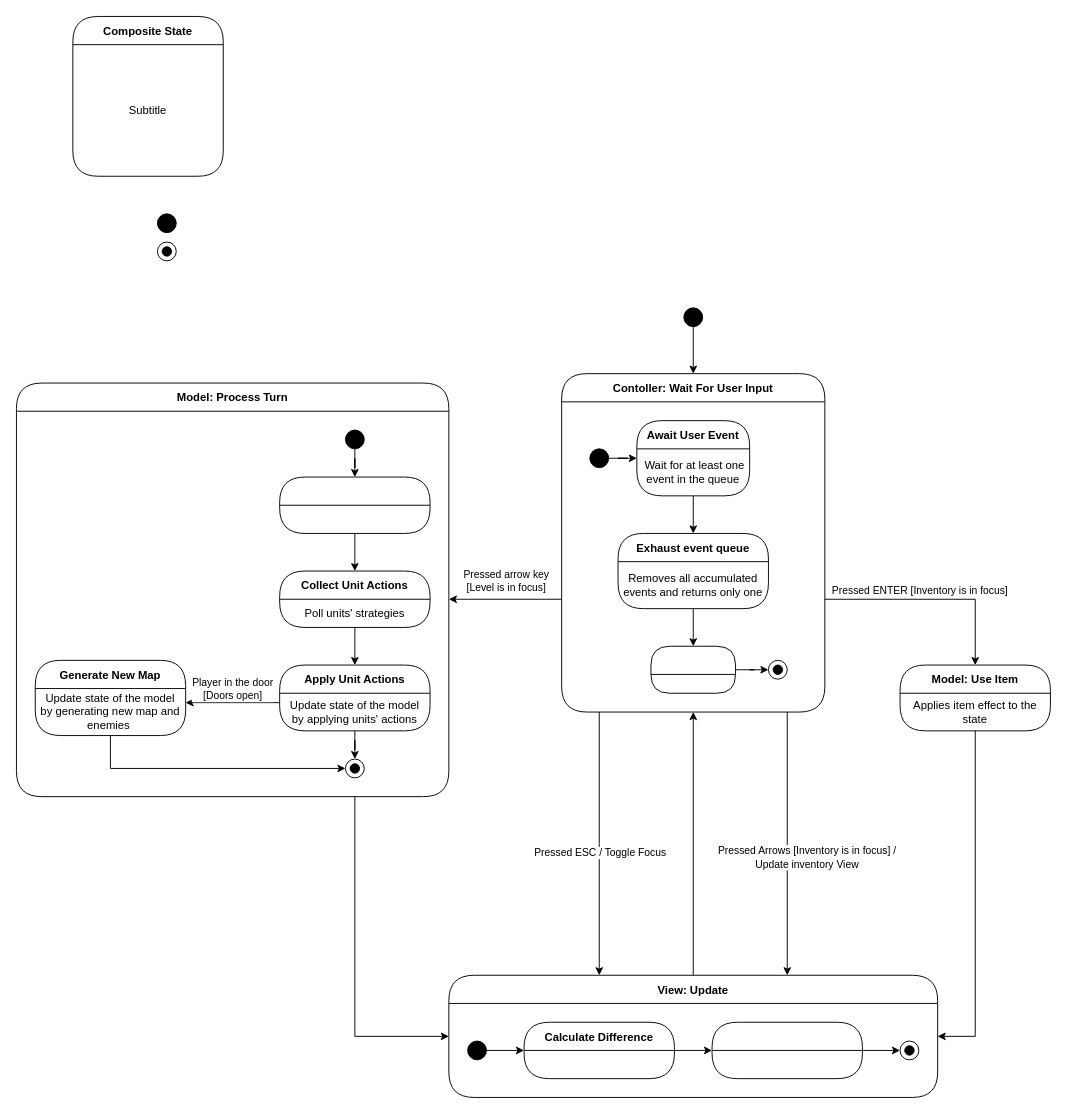
This 1067x1114 diagram has some shape labels left out. Each missing label, with the centre of its shape:
"Display Difference" belongs at pixel 786 1050.
"Interpret" belongs at pixel 693 669.
"Update User Strategy" belongs at pixel 354 504.
